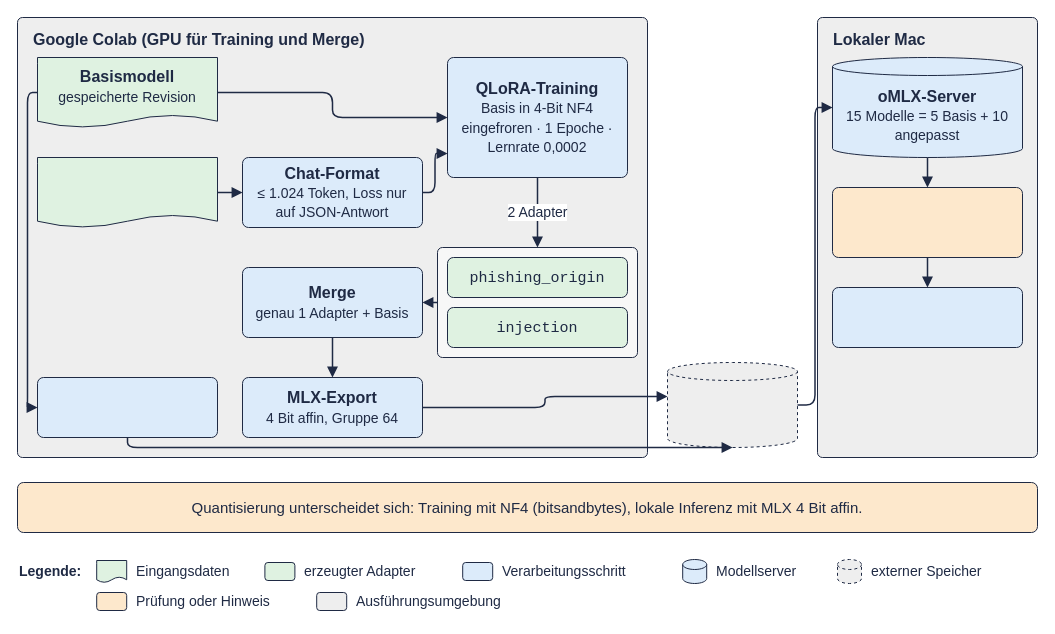
The diagram is 1055 pixels wide and 634 high, and some of its shapes have lost their labels. The centre of each missing label's shape, as x and y in pixels:
"Cloud-Speicher Modellordner" goes at (x=732, y=405).
"Datenquellen Prüfsummen geprüft, gruppierter Split" goes at (x=127, y=192).
"Herkunft und Quantisierung prüfen" goes at (x=927, y=222).
"MLX-Export Basis ohne Adapter" goes at (x=127, y=407).
"Task-Auswertung" goes at (x=927, y=317).
